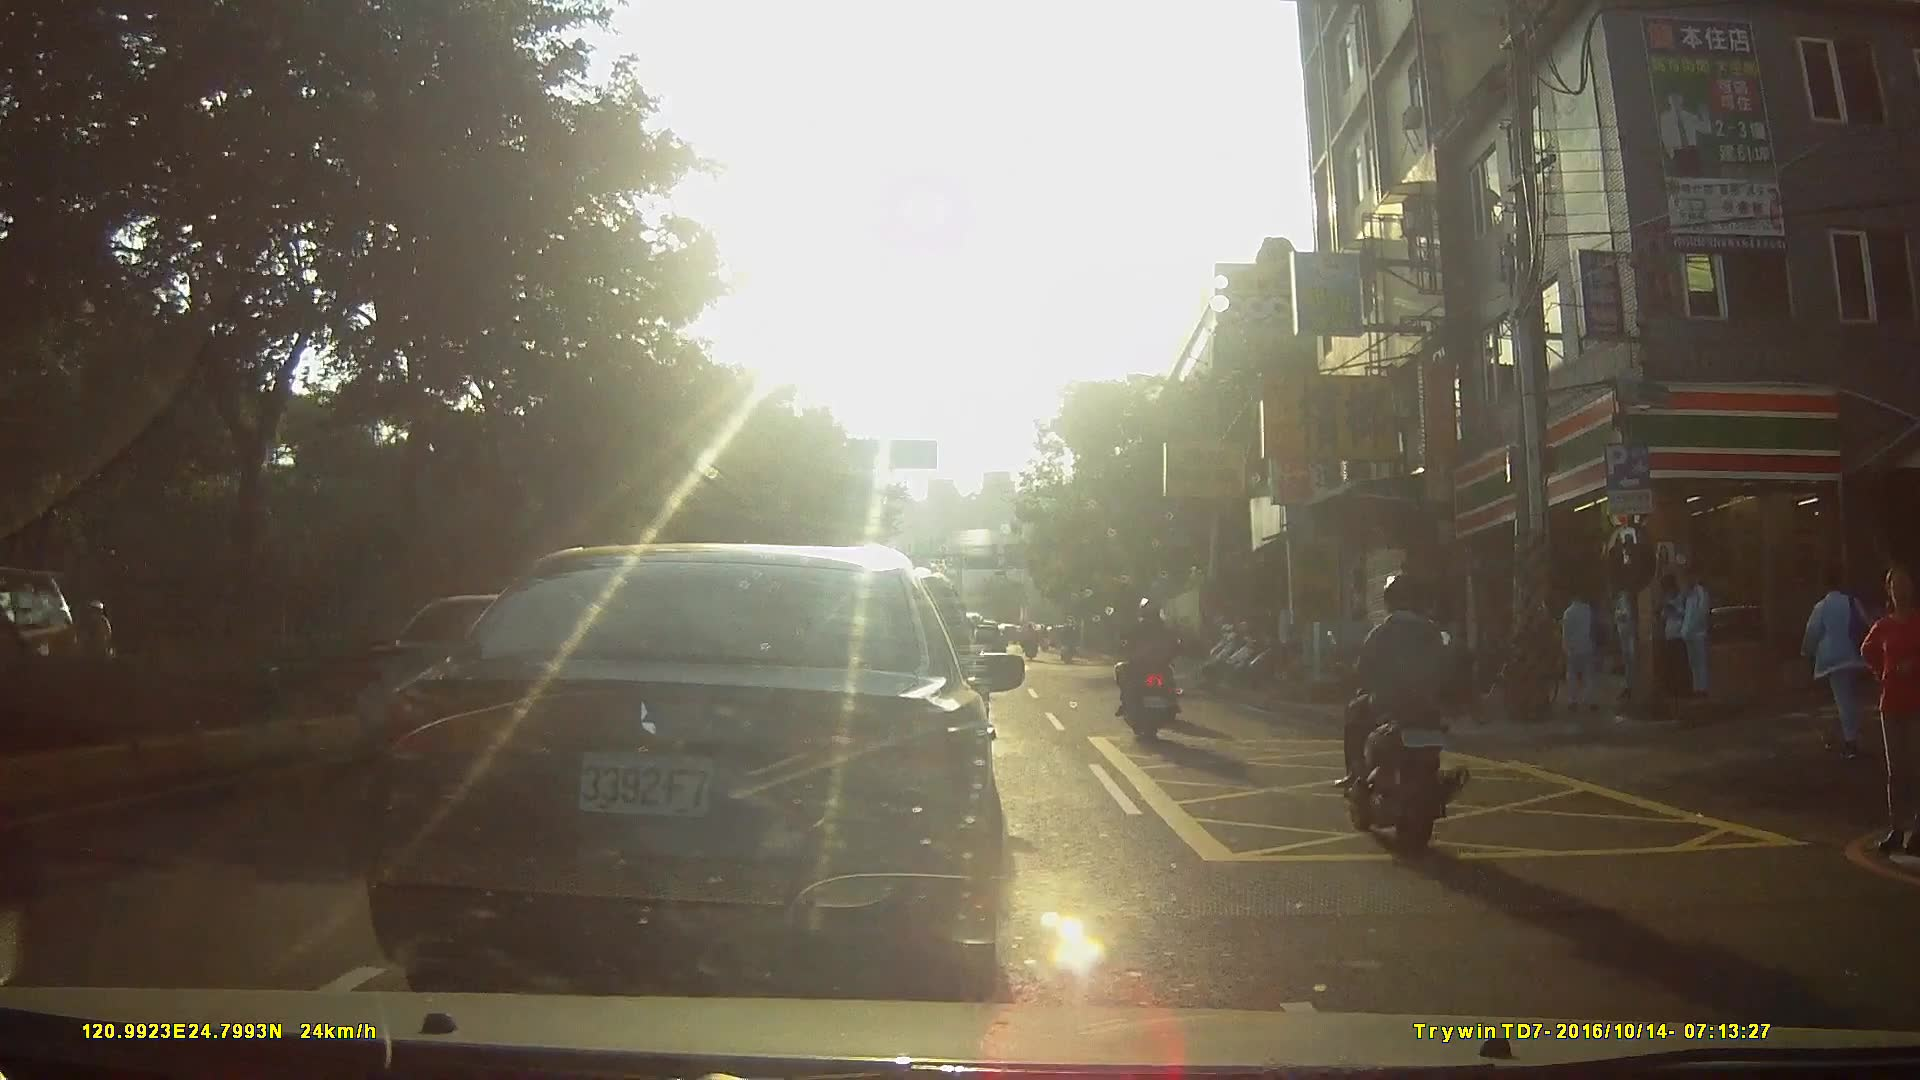pedestrian: (1857, 567, 1920, 854), (1797, 566, 1876, 763), (1556, 579, 1607, 715), (1610, 574, 1655, 708), (1667, 569, 1712, 699), (1657, 568, 1695, 709)
rider: (1338, 571, 1473, 863), (1116, 594, 1185, 742), (1058, 621, 1080, 665), (1021, 621, 1042, 665)
vehicle: (376, 541, 1037, 983), (1, 566, 87, 715)
